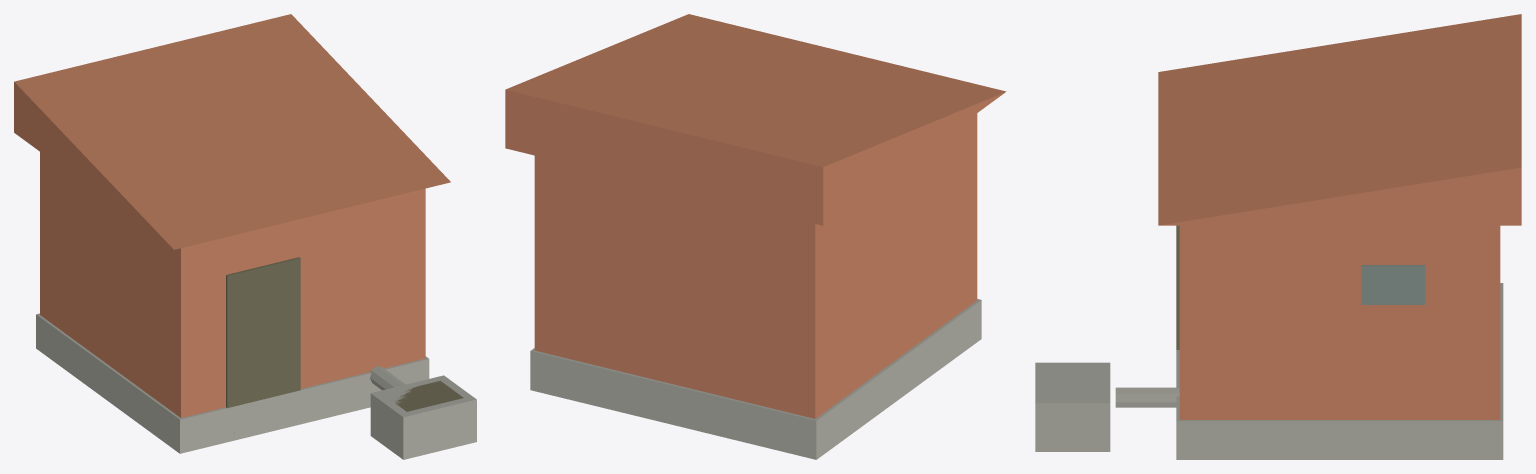
File: SM_CasetaPozo_v1_Ladrillo_LOD0.fbx
3 renders of one model, left to right at view 1: azimuth 30°, elevation 25°; view 2: azimuth 150°, elevation 25°; view 3: azimuth 270°, elevation 25°, orthographic. The views are drawn at different scales.
Visible parts, largest first — view 1: SM_huerta_nules_v1_LOD0; view 2: SM_huerta_nules_v1_LOD0; view 3: SM_huerta_nules_v1_LOD0.
Part boxes in pixels (x1,y1,x2,y2): SM_huerta_nules_v1_LOD0: [14, 14, 476, 459]; SM_huerta_nules_v1_LOD0: [505, 14, 1006, 459]; SM_huerta_nules_v1_LOD0: [1035, 14, 1521, 459].
Size of the model in its own units: 3.4 by 3.1 by 4.55.
